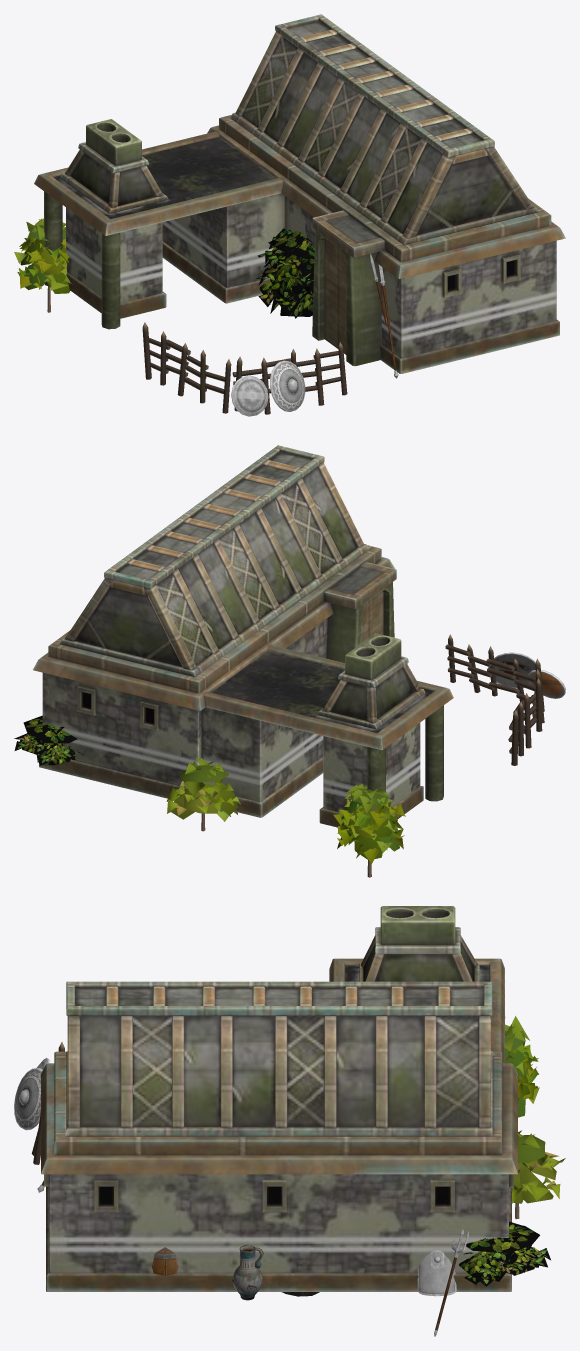
Rendered from 31-armory.glb.
The picture shows the model from 3 angles, top to bottom: view 1: azimuth 30°, elevation 25°; view 2: azimuth 150°, elevation 25°; view 3: azimuth 270°, elevation 25°; orthographic projection. The views are drawn at different scales.
Bounding box in the file's own units: 8.77 × 5.2 × 9.
22 materials, 20 textured.
